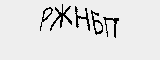Б: (89, 9, 103, 39)
Ж: (49, 3, 73, 29)
Н: (73, 4, 93, 32)
П: (101, 15, 120, 40)
Р: (35, 3, 54, 32)
